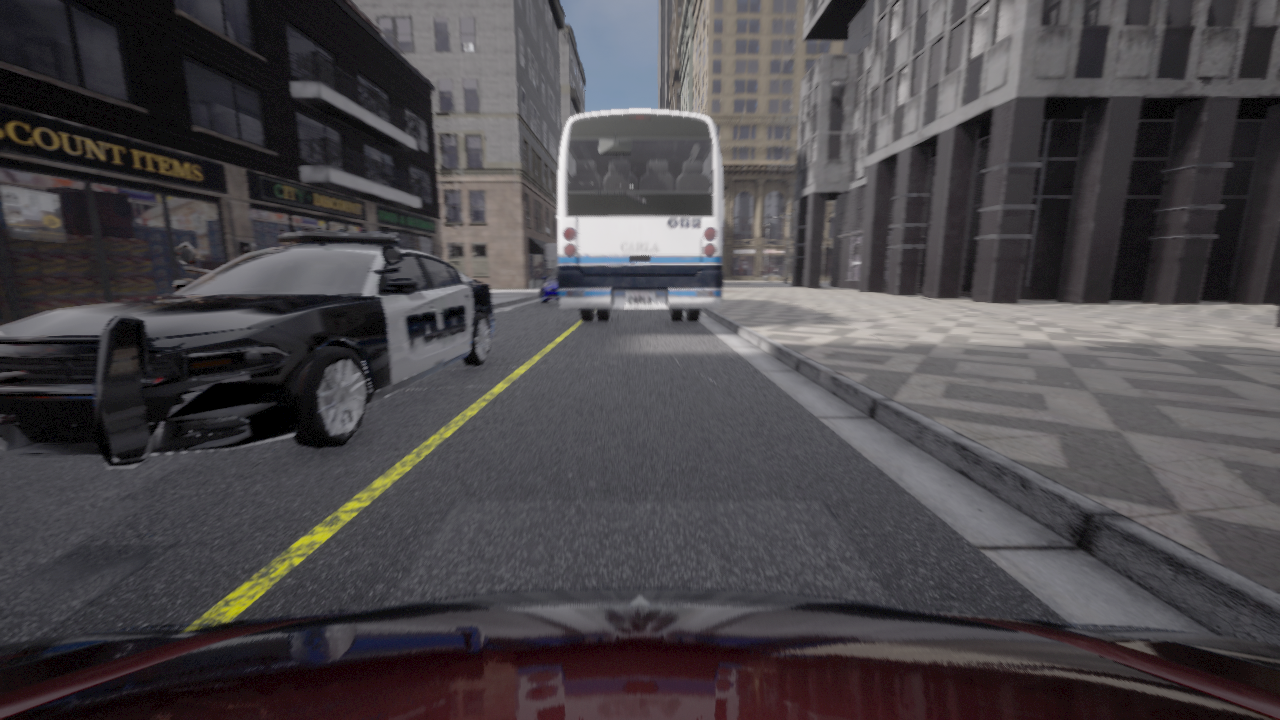cyclist: (0, 588, 1279, 719), (0, 227, 493, 467), (557, 109, 722, 321), (540, 267, 558, 303)
